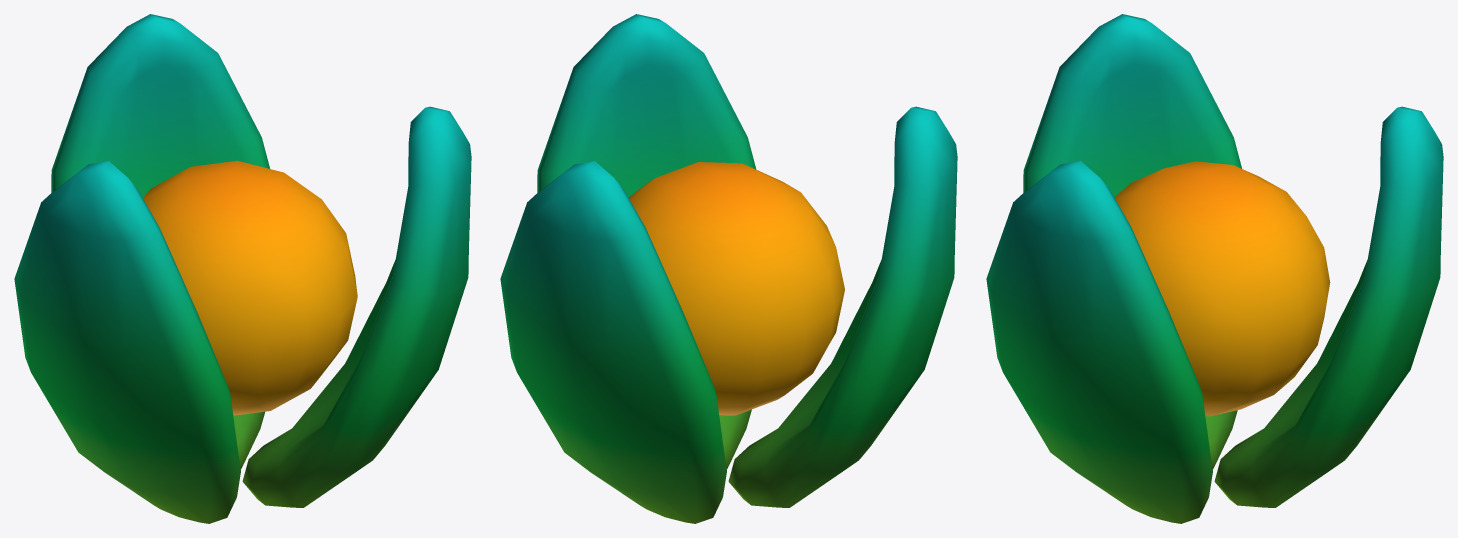
Rendered from Capsule_contents_011.fbx.
3 renders of one model, left to right at view 1: azimuth 30°, elevation 25°; view 2: azimuth 150°, elevation 25°; view 3: azimuth 270°, elevation 25°, orthographic.
Parts seen in each view (by area): view 1: Сapsule_contents_011; view 2: Сapsule_contents_011; view 3: Сapsule_contents_011.
Part boxes in pixels (x1=…): Сapsule_contents_011: x1=14, y1=14, x2=471, y2=523; Сapsule_contents_011: x1=500, y1=14, x2=957, y2=523; Сapsule_contents_011: x1=986, y1=14, x2=1443, y2=523.
Bounding box in the file's own units: 81.67 × 78.63 × 76.33.
